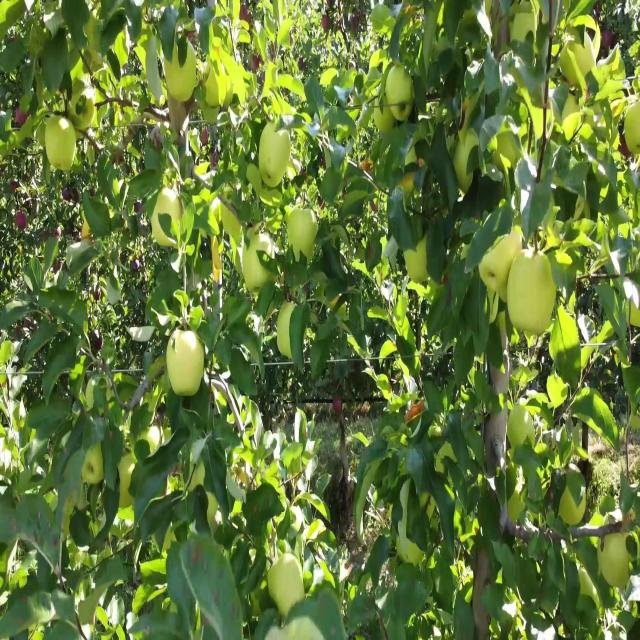apple: (509, 255, 557, 336), (168, 327, 206, 396), (492, 227, 527, 288), (260, 120, 291, 188), (496, 227, 531, 286), (244, 234, 273, 297), (152, 191, 183, 249), (164, 49, 197, 100), (48, 120, 77, 172), (564, 42, 596, 89), (456, 127, 479, 192), (384, 63, 414, 108), (560, 483, 588, 528), (68, 92, 96, 137), (156, 184, 183, 226), (204, 63, 229, 107), (480, 248, 503, 288), (560, 99, 581, 142), (176, 291, 204, 322), (548, 234, 573, 268), (204, 71, 227, 107), (120, 462, 137, 508), (84, 447, 104, 485), (500, 312, 521, 347), (168, 99, 191, 130), (120, 455, 137, 496), (136, 21, 151, 64), (200, 99, 221, 128), (404, 398, 426, 425), (376, 106, 396, 135), (544, 220, 561, 254), (208, 199, 224, 235), (116, 28, 130, 68), (393, 99, 415, 124), (212, 241, 224, 284), (208, 28, 223, 62), (400, 7, 417, 34), (72, 56, 87, 85), (212, 248, 224, 284), (600, 28, 616, 55), (232, 227, 243, 265), (196, 604, 208, 638), (148, 426, 161, 455), (208, 490, 219, 524), (152, 85, 168, 108), (120, 504, 136, 526), (192, 462, 205, 489), (620, 135, 633, 162), (556, 248, 573, 268), (120, 490, 135, 510), (16, 106, 29, 128), (320, 71, 336, 87), (240, 7, 252, 27), (16, 213, 28, 231), (372, 49, 381, 71), (440, 7, 445, 30), (324, 14, 330, 32)
